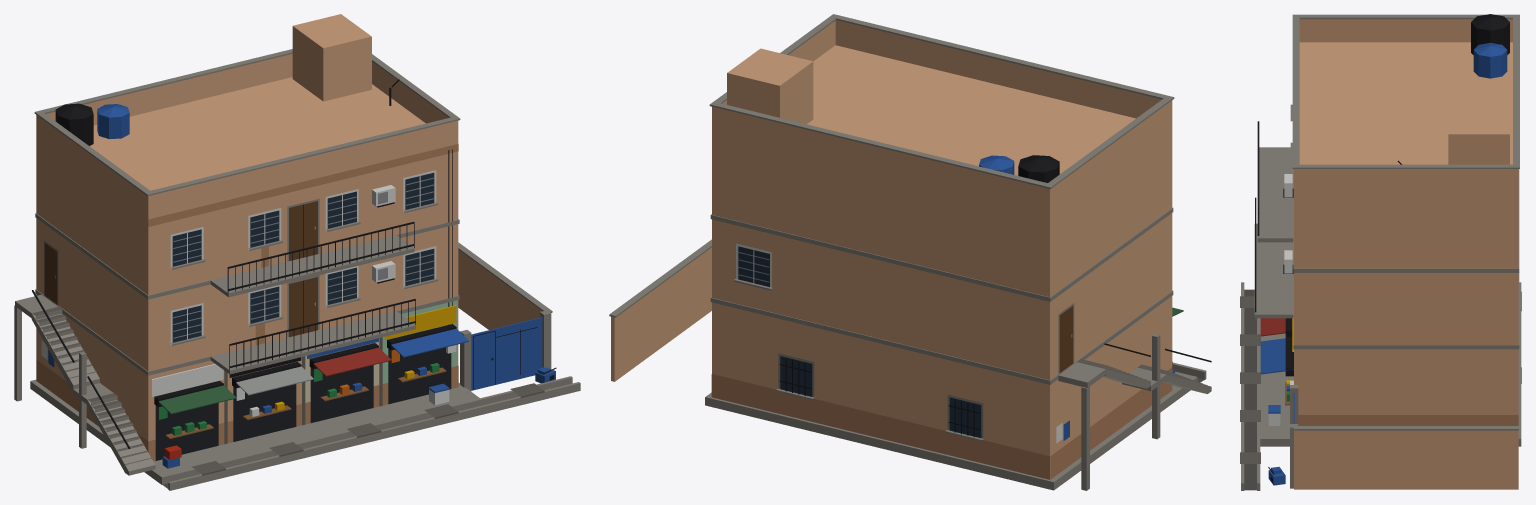
The model's file is bld_plaza.d6eca2a9bae8.glb.
3 renders of one model, left to right at view 1: azimuth 30°, elevation 25°; view 2: azimuth 150°, elevation 25°; view 3: azimuth 270°, elevation 25°, orthographic. The views are drawn at different scales.
Visible parts, largest first — view 1: body; view 2: body; view 3: body.
Part boxes in pixels (left/top/right/bottom): body: left=14, top=14, right=580, bottom=490; body: left=609, top=14, right=1211, bottom=490; body: left=1240, top=14, right=1521, bottom=490.
Bounding box in the file's own units: 17.9 × 12 × 10.05.
